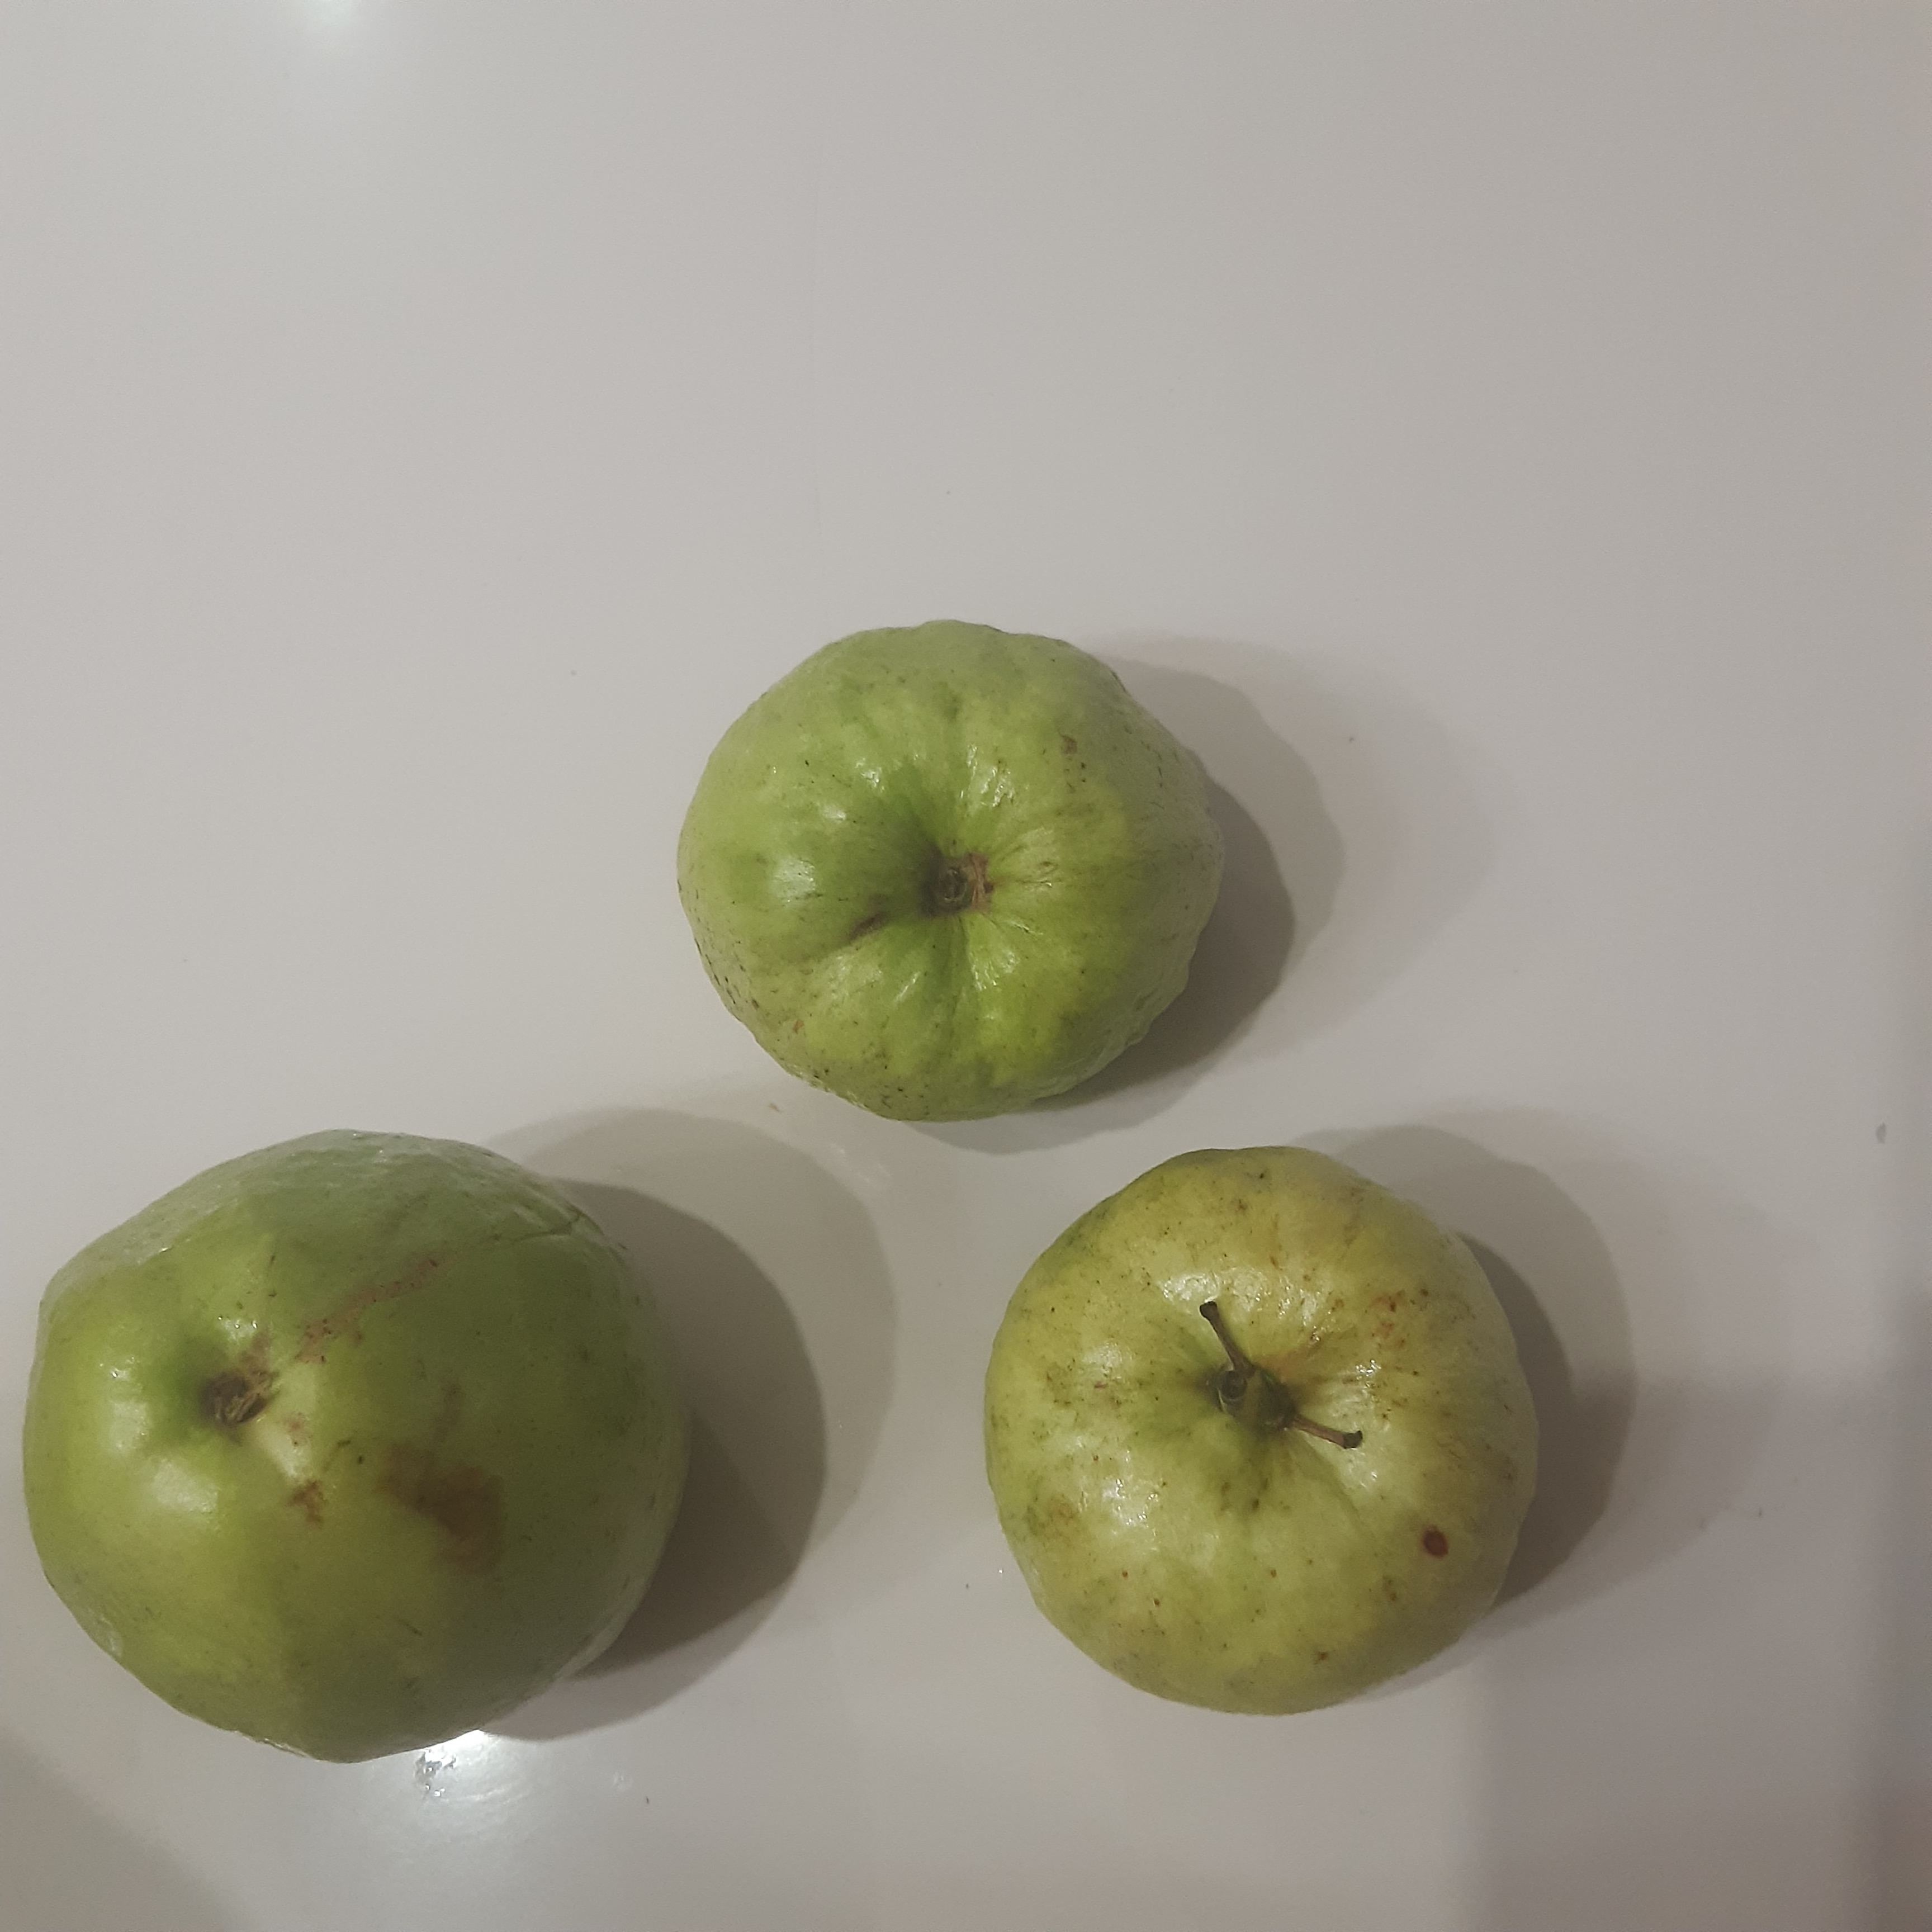Oi: (21, 1127, 694, 1762), (984, 1145, 1543, 1714), (674, 616, 1230, 1123)
